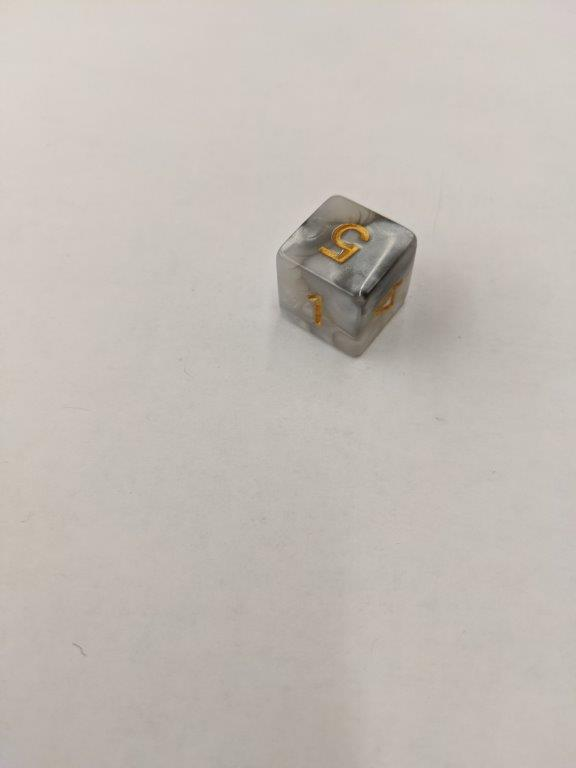d6-5: (277, 194, 416, 357)
